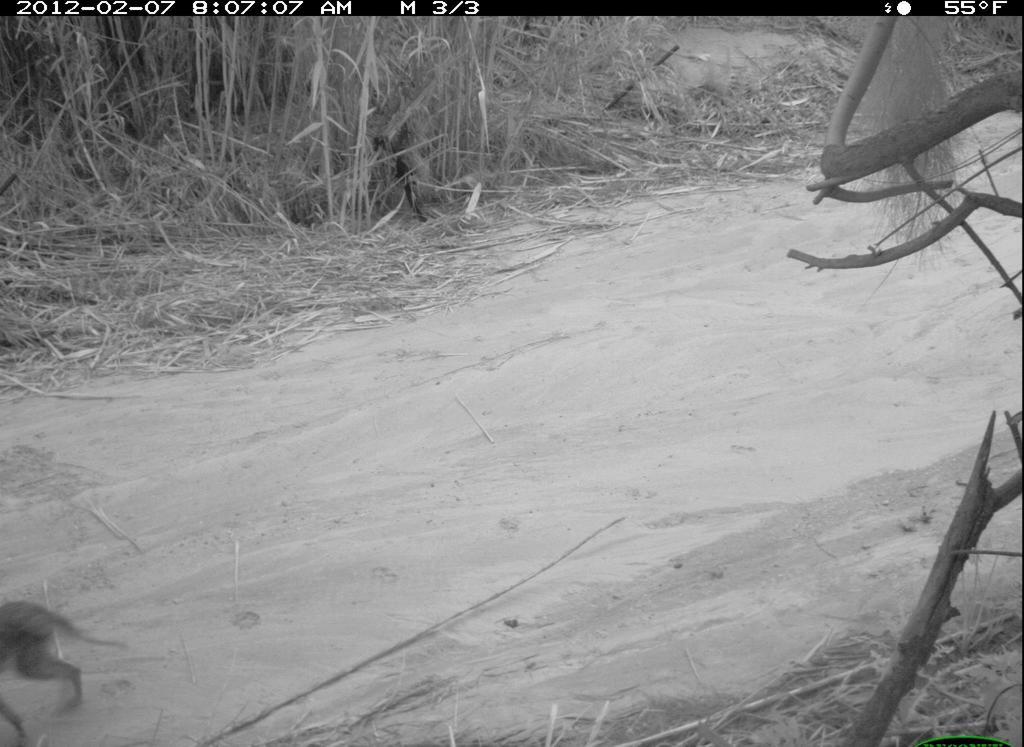coyote: (1, 591, 139, 747)
